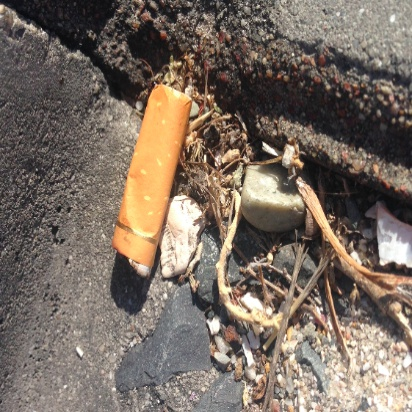cigarette: (110, 73, 197, 289)
